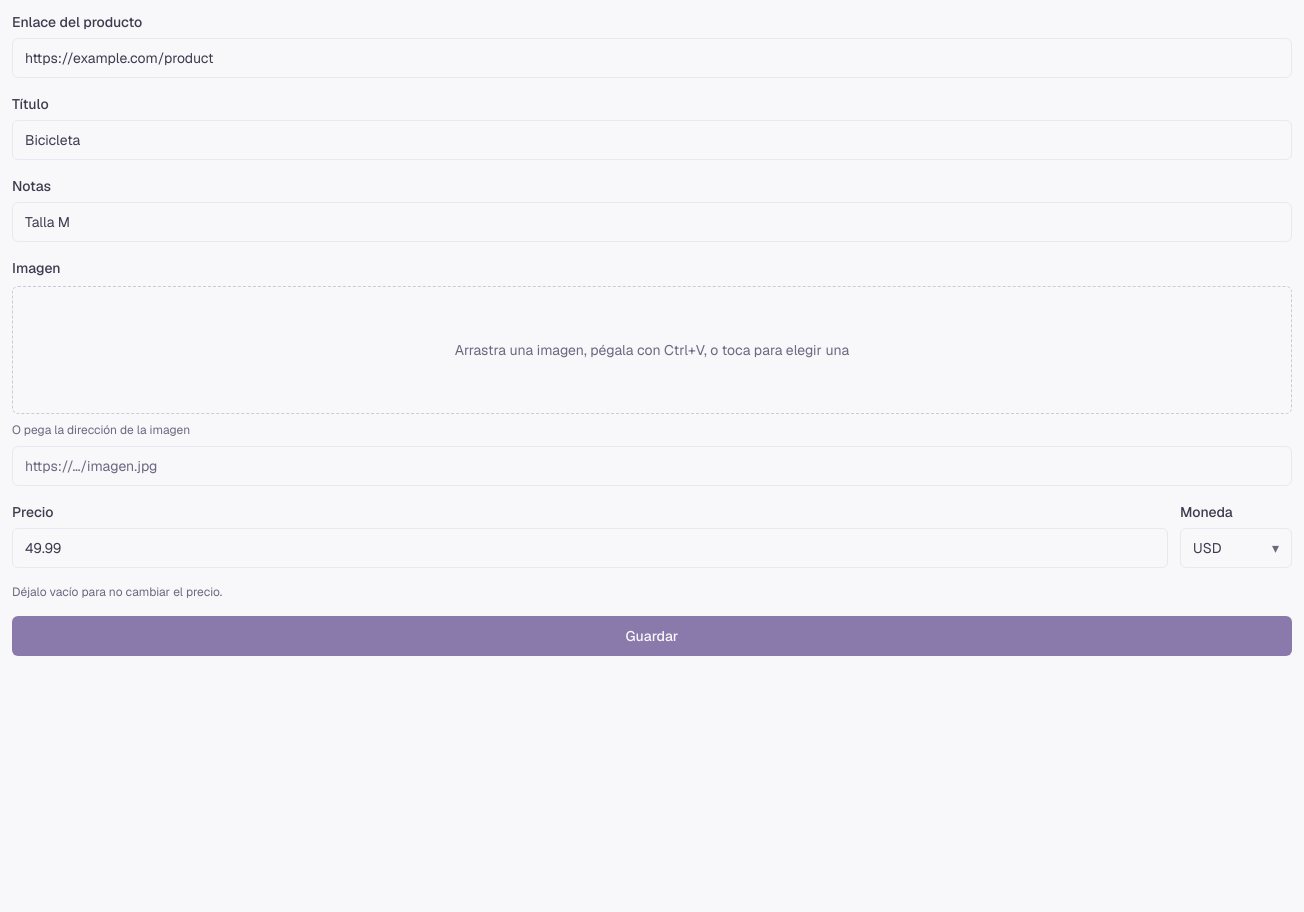
Test: EditItemForm › Save button validity gating (T082) › disables once the required title is cleared
Expected: the button "Guardar" is enabled, [12,616,1292,656]
Clear the field labelled "Título". click: {"x": 652, "y": 140}
box: [12,120,1292,160]
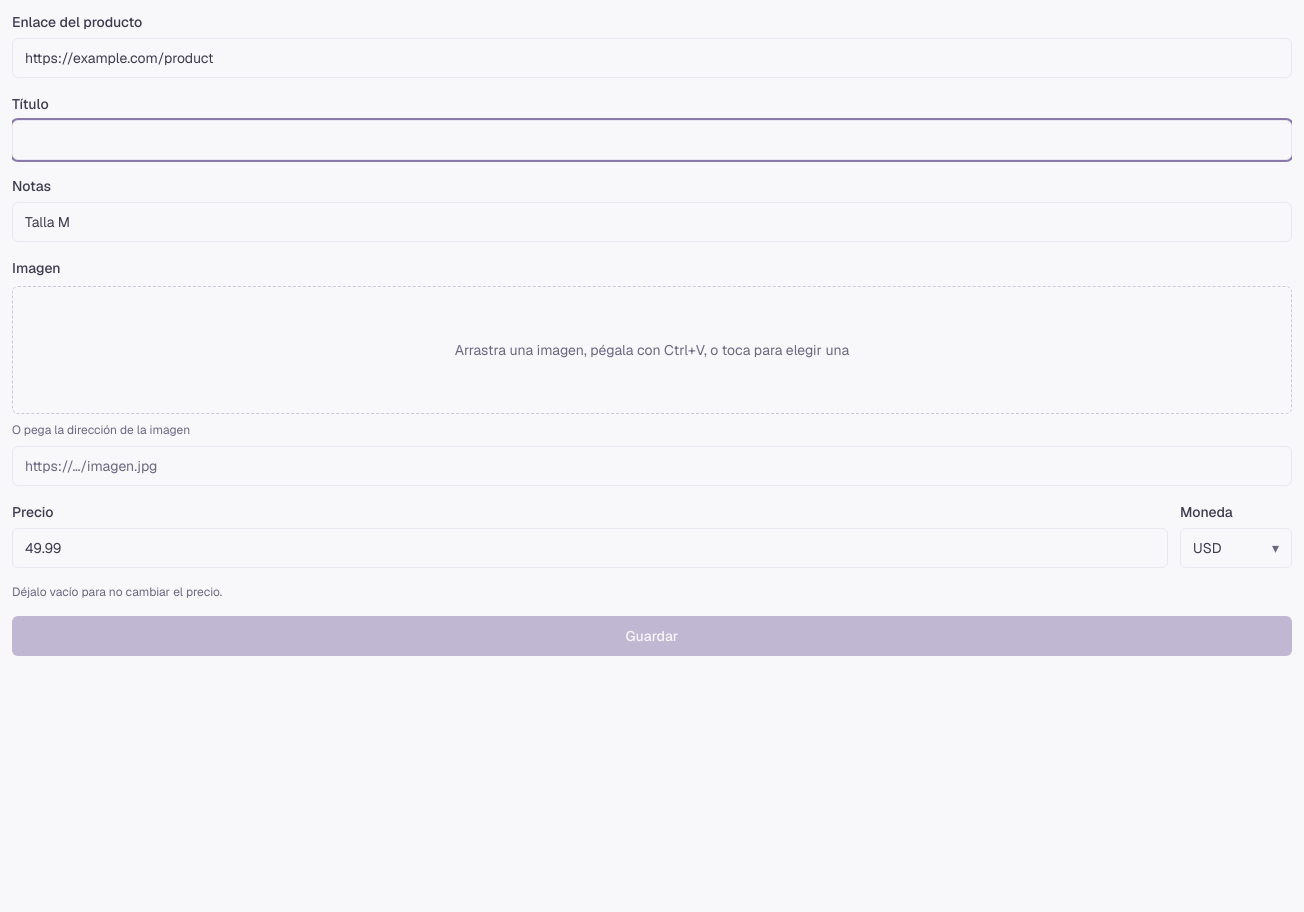
Expected: the button "Guardar" is disabled, [12,616,1292,656]
